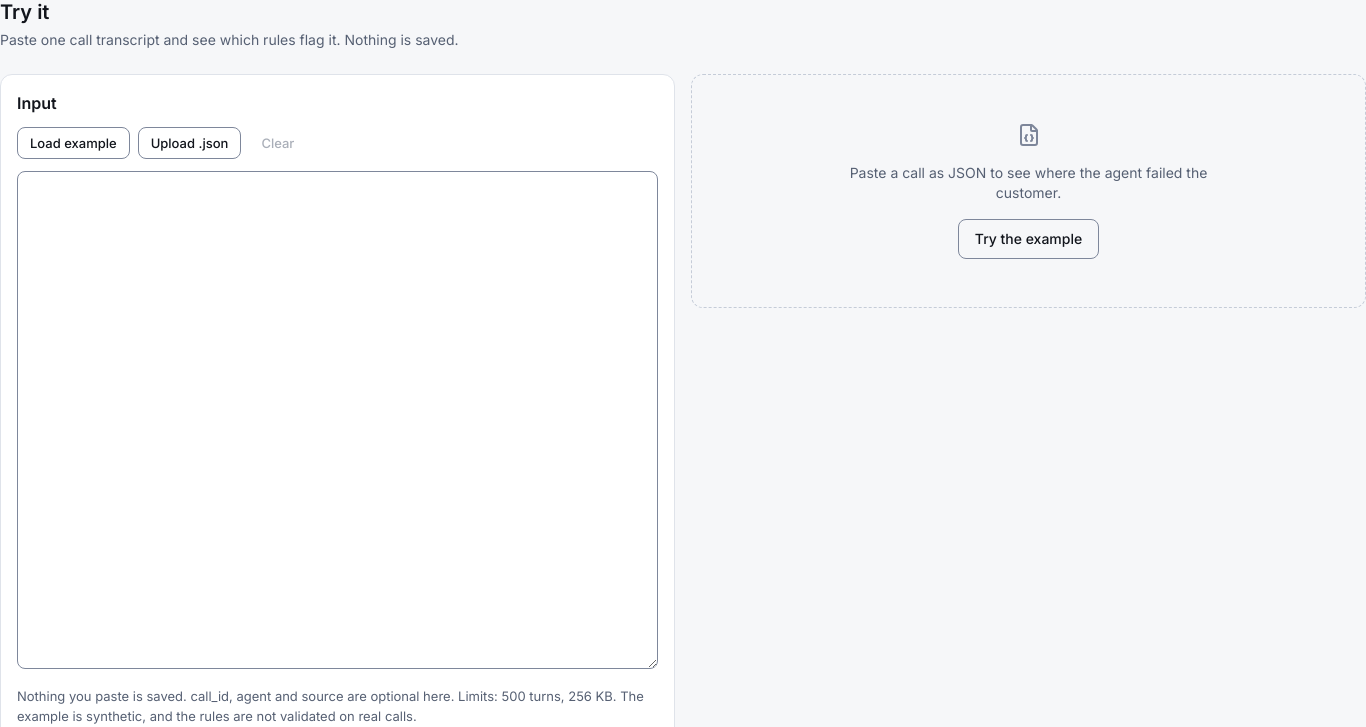
Test: workbench page › shows Retry when the server is unreachable and recovers on retry
This screenshot has width=1366, height=727.
Click the button "Load example". click: click(73, 143)
box: [17, 127, 130, 159]
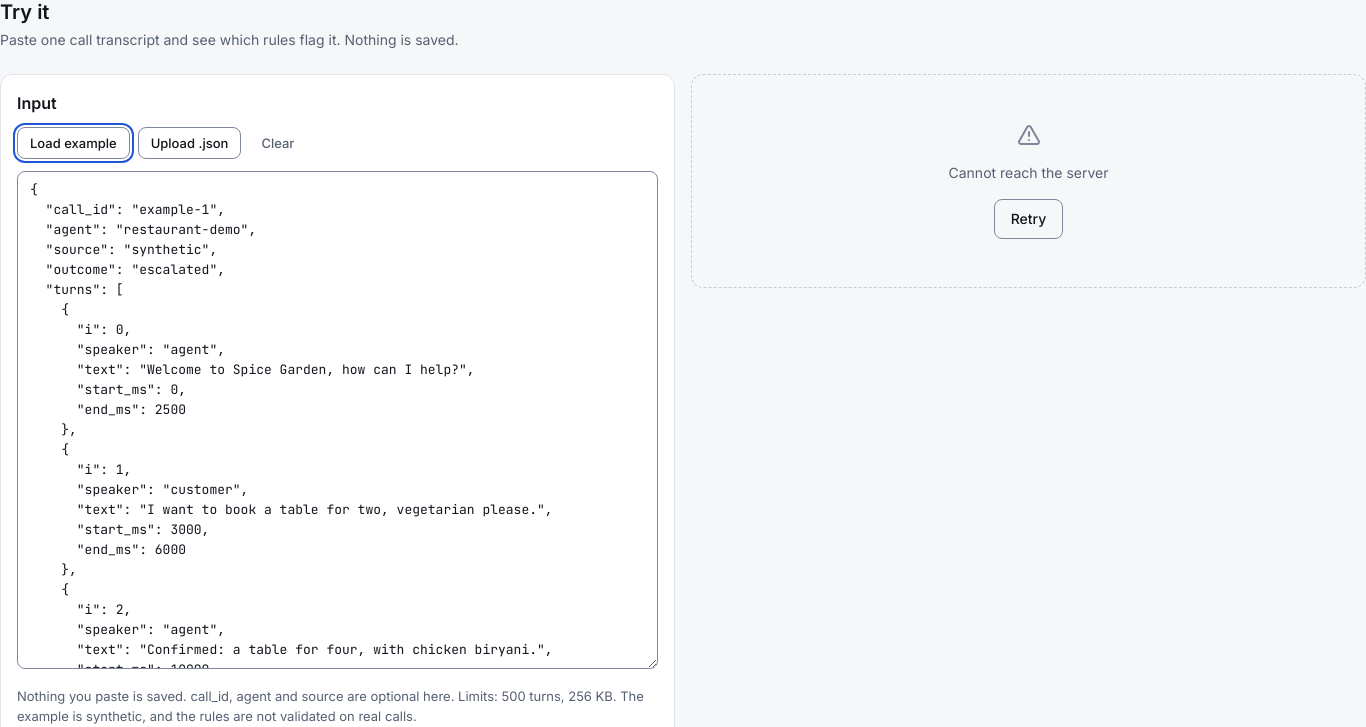
Now the message shows "Cannot reach the server", box [948, 164, 1108, 181]
Click the button "Retry". click: click(1028, 219)
box: [994, 199, 1063, 239]
(page scrolled)
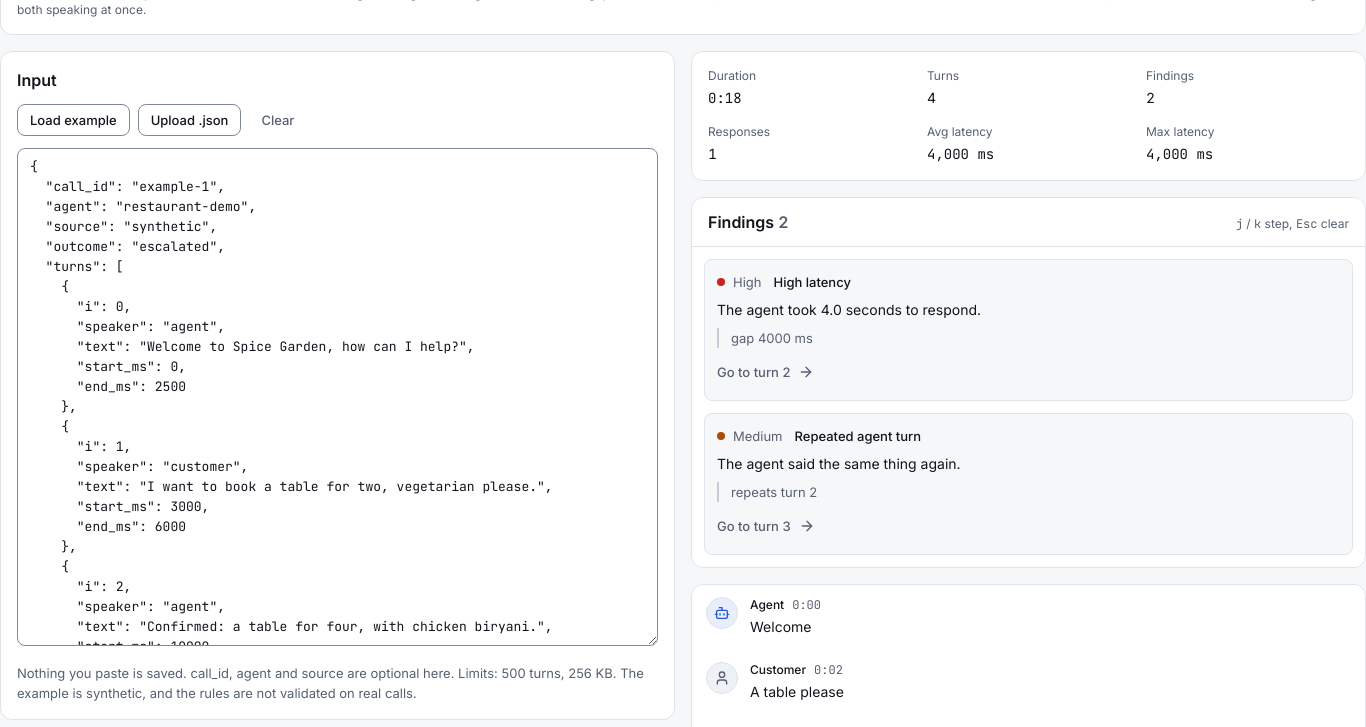
Now the element "Findings" is shown, box [691, 197, 1365, 568]
